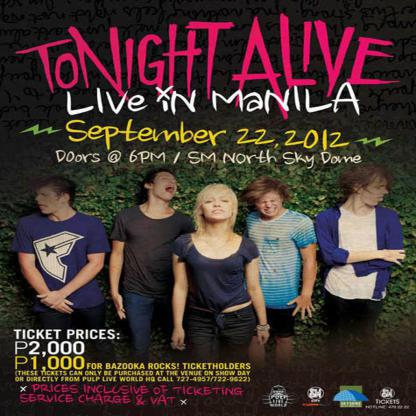face: (366, 176, 391, 207), (203, 195, 233, 220), (257, 193, 283, 219), (37, 188, 61, 216), (155, 176, 178, 200)
